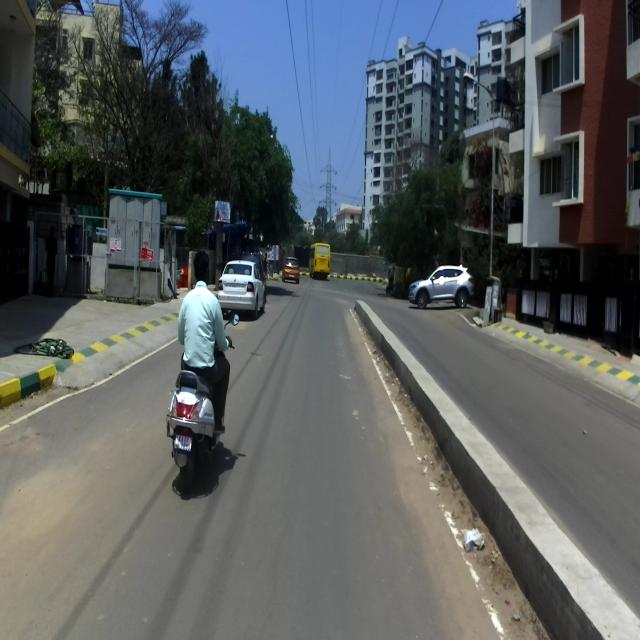car ahead at: (222, 255, 267, 319)
motorcycle ahead at: (163, 362, 233, 482)
